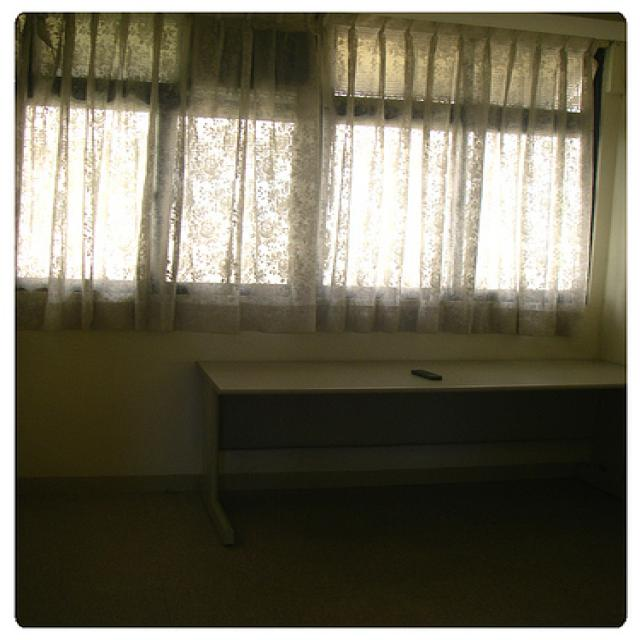Table: (167, 334, 640, 568)
